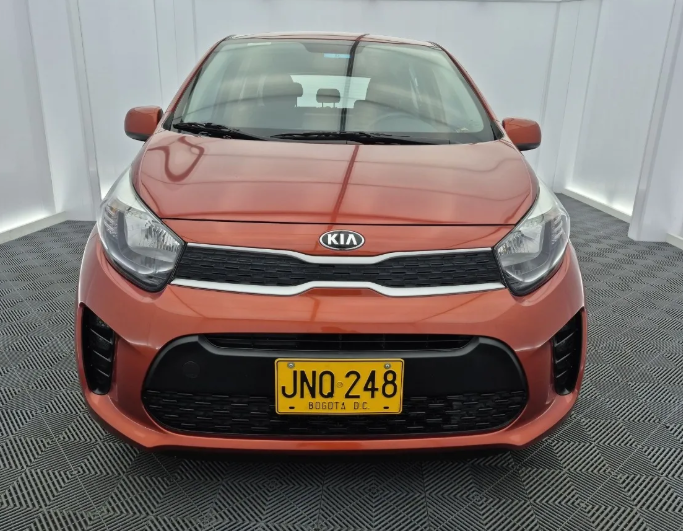placa: (275, 361, 404, 415)
